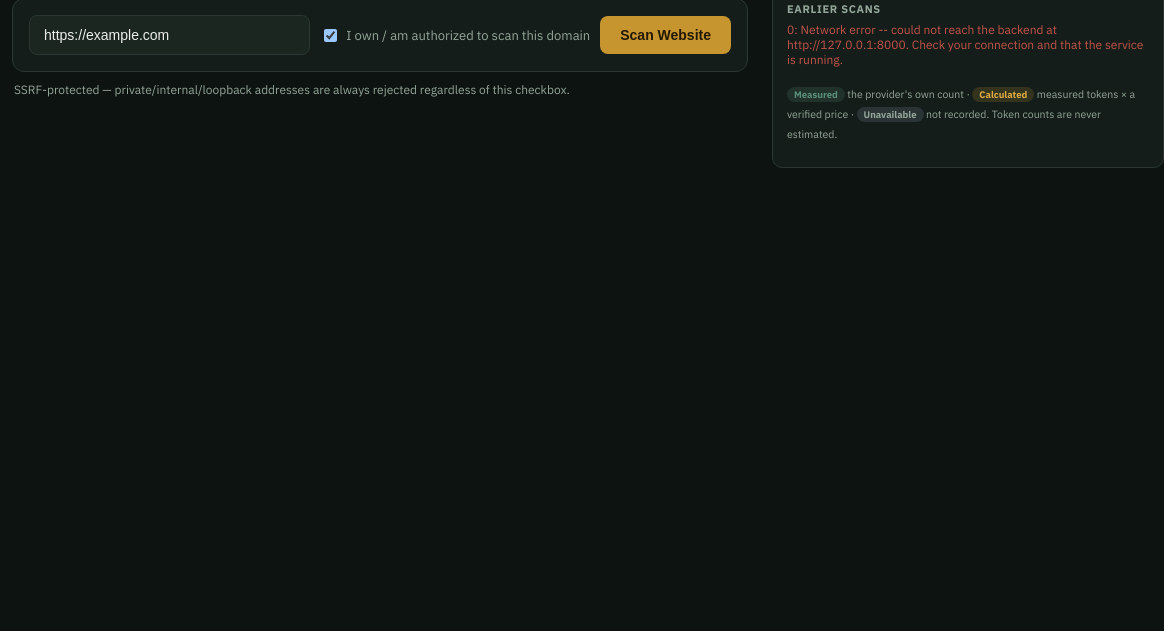
a failed scan that collected nothing is not shown as a clean result › says it failed and that the results are partial, not the outcome of a completed scan
The image size is (1164, 631).
Step 1. Type "https://smartians.ai/" into the field with placeholder "https://example.com" → (170, 35), box [29,15,310,55]
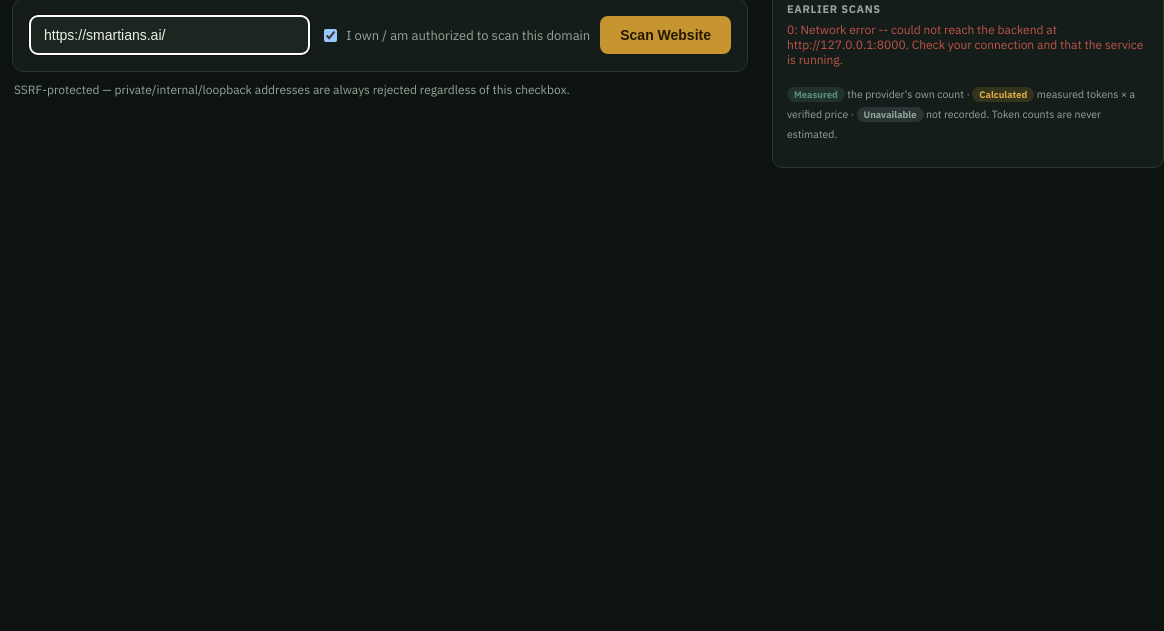
Step 2. Click the button "Scan Website" → (666, 35), box [600,16,731,54]
(page scrolled)
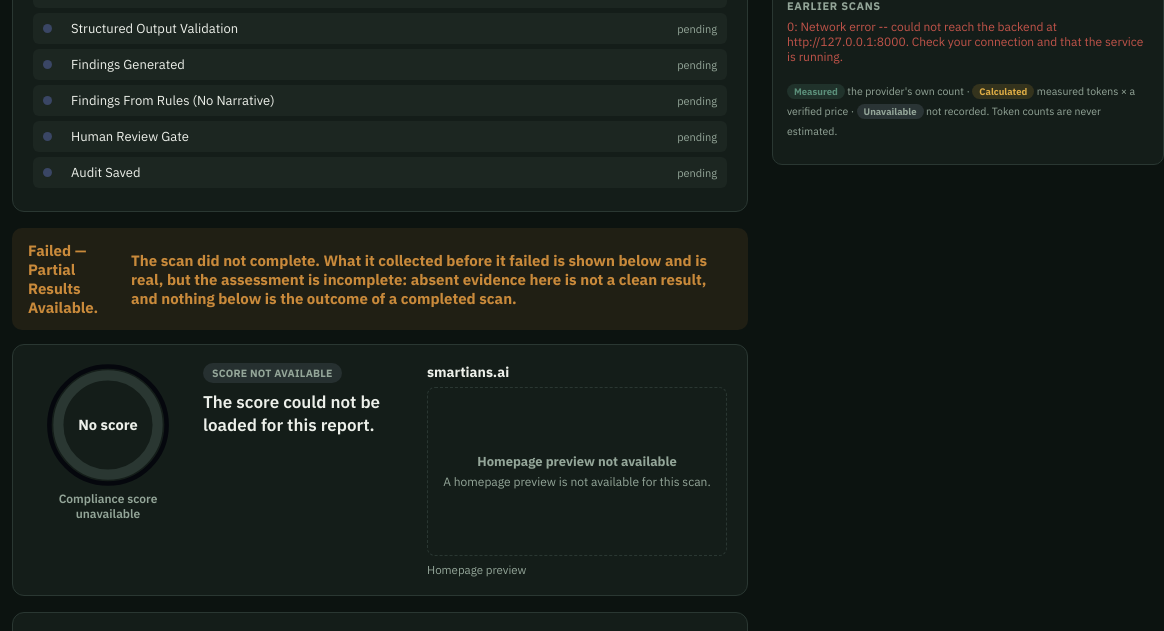
Result: the message with test id "partial-results" shows "assessment is incomplete" at [131,250,707,308]
Result: the message with test id "partial-results" shows "not a clean result" at [131,250,707,308]
